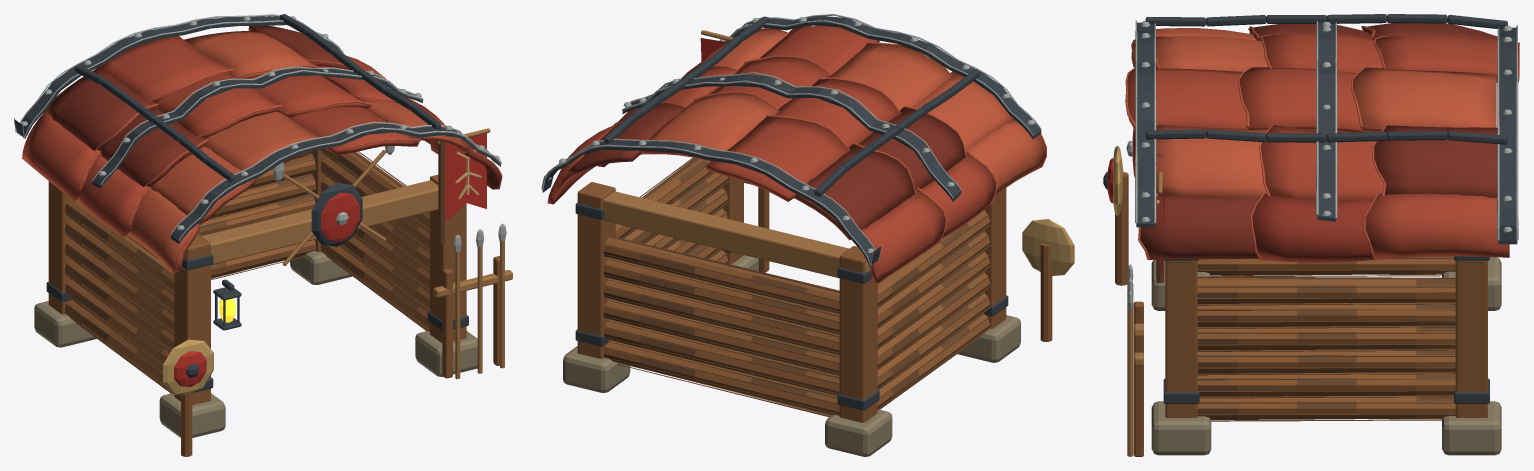
The model's file is barracks.glb.
3 views of the same model, side by side, from view 1: azimuth 30°, elevation 25°; view 2: azimuth 150°, elevation 25°; view 3: azimuth 270°, elevation 25° (orthographic). The views are drawn at different scales.
Visible parts, largest first — view 1: barracks; view 2: barracks; view 3: barracks.
Part boxes in pixels (x1,y1,x2,y2): barracks: (14,14,512,456); barracks: (541,14,1074,456); barracks: (1103,14,1519,456).
Size of the model in its own units: 5.6 by 4.17 by 4.88.
